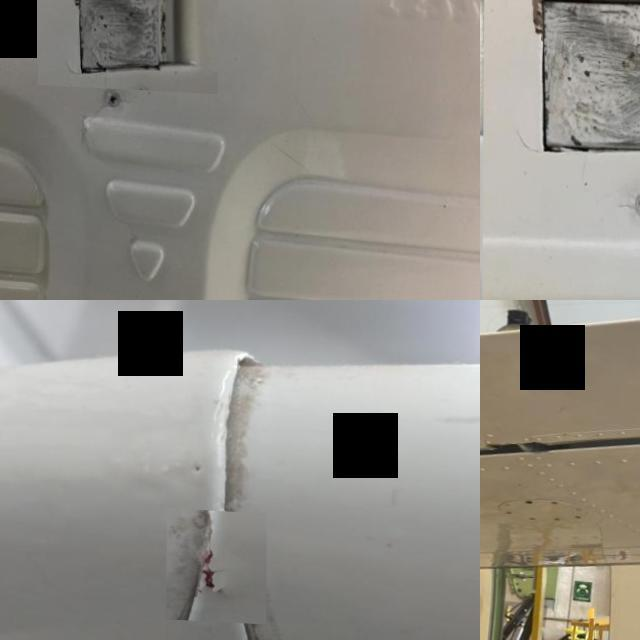Crack: (482, 0, 640, 300), (38, 0, 219, 90), (166, 506, 268, 620)
Missing_Fastener: (524, 497, 534, 502), (575, 512, 584, 516)
